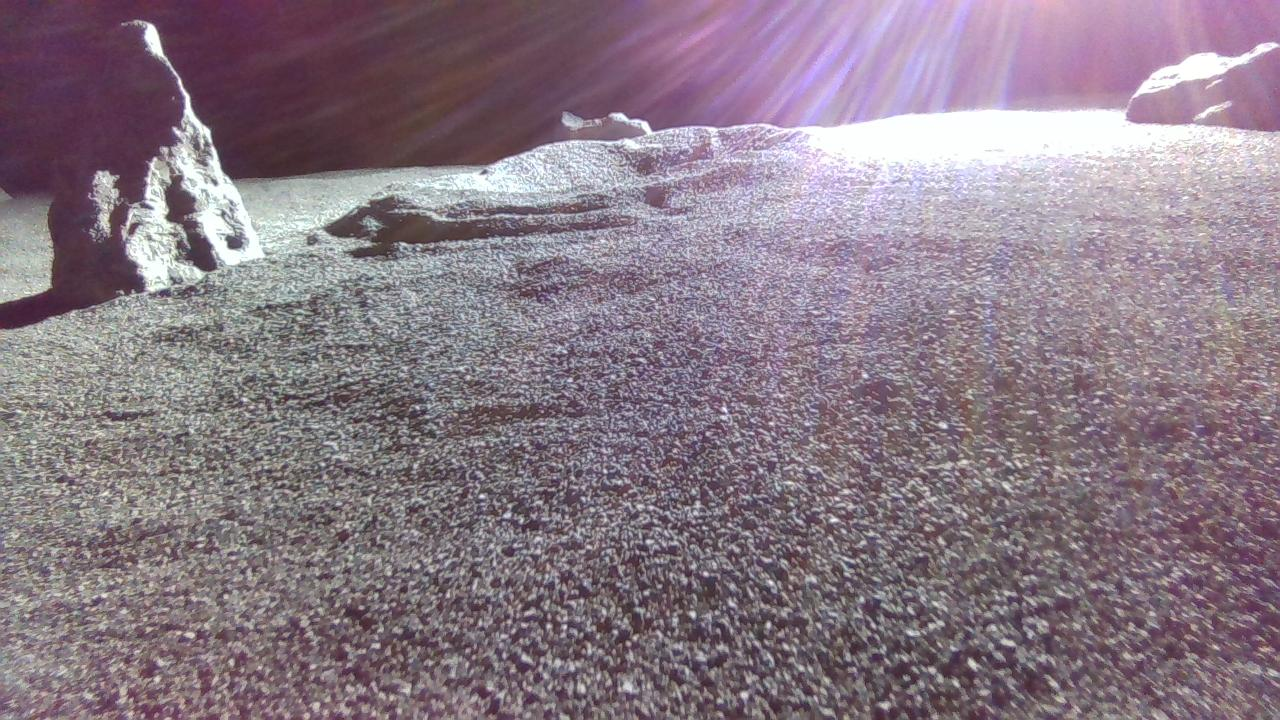rock: (47, 20, 262, 307), (1129, 42, 1280, 129), (562, 110, 653, 139)
